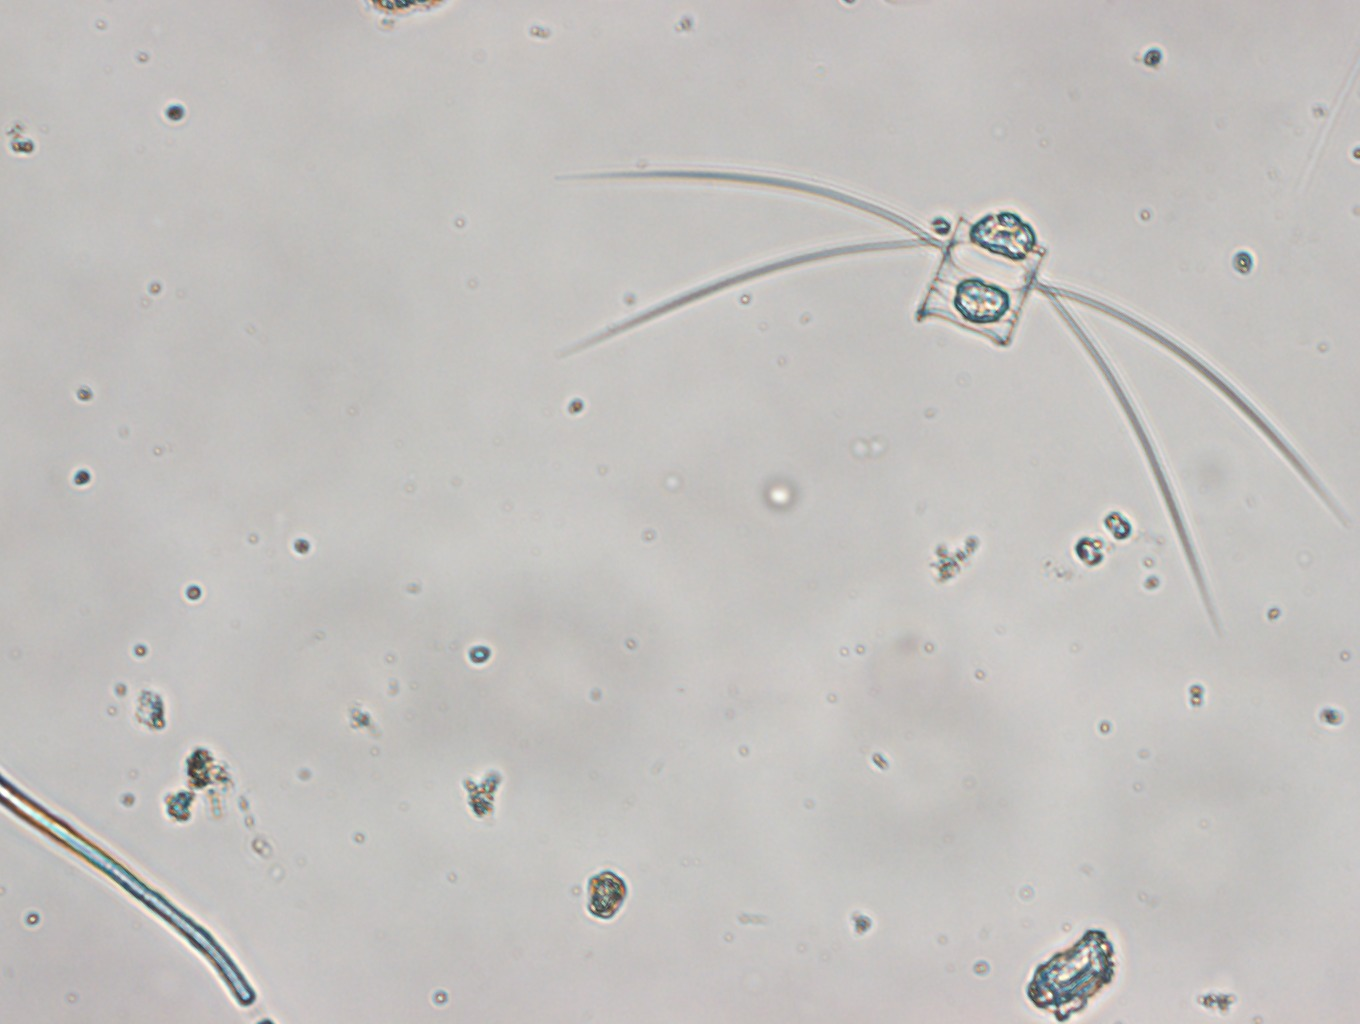chaetoceros: (557, 166, 1346, 627)
